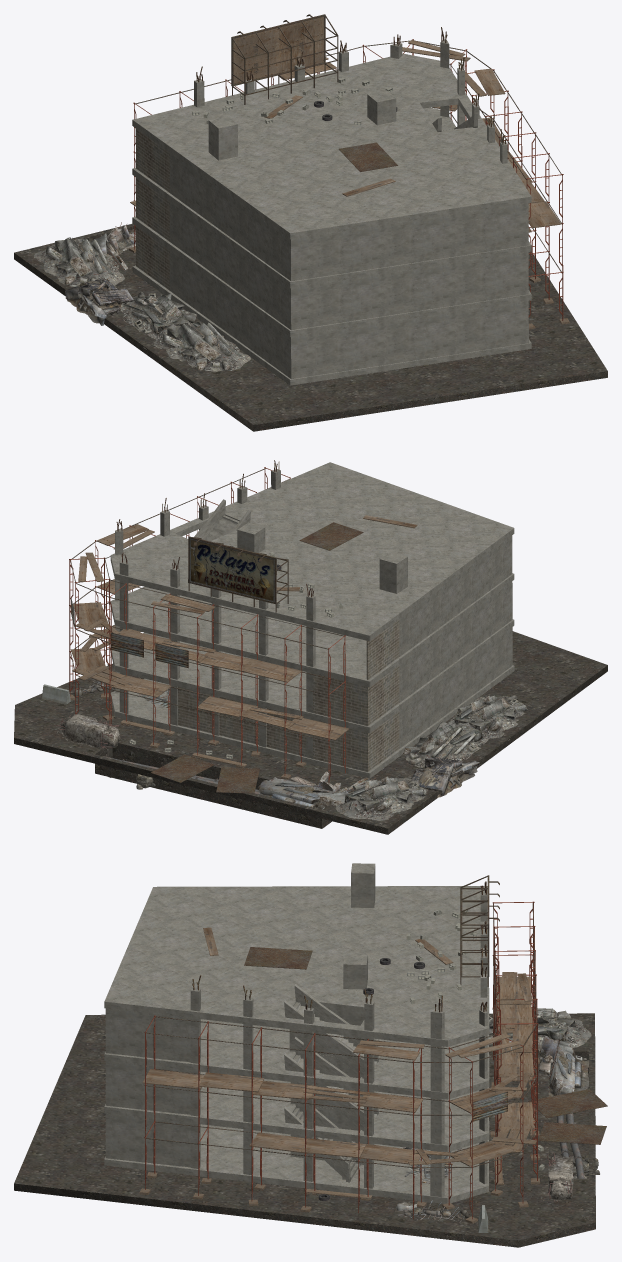
Rendered from building_construction.glb.
3 views of the same model, one above another, from view 1: azimuth 30°, elevation 25°; view 2: azimuth 150°, elevation 25°; view 3: azimuth 270°, elevation 25° (orthographic). The views are drawn at different scales.
Parts seen in each view (by area): view 1: walls_0f1b98c7.dds_0, Boole_1_Mat_0, brick_d9b6f6be.dds_0, sign_2_Mat_0, woodplanks_Mat.1_0, 4_1_0, 3_1_0, skela_92265190.dds_0, frame_3b1cf6ce.dds_0, 1_1_0, 2_2_0, steel_3b1cf6ce.dds_0 (+4 smaller); view 2: walls_0f1b98c7.dds_0, Boole_1_Mat_0, brick_d9b6f6be.dds_0, woodplanks_Mat.1_0, skela_92265190.dds_0, signback_Mat_0, Boole_1_2_Mat_0, steel_3b1cf6ce.dds_0, 3_1_0, 1_1_0, 8_8_0, bars_3b1cf6ce.dds_0 (+6 smaller); view 3: walls_0f1b98c7.dds_0, Boole_1_Mat_0, woodplanks_Mat.1_0, skela_92265190.dds_0, steel_3b1cf6ce.dds_0, bars_3b1cf6ce.dds_0, 8_8_0, stairs_2_0f1b98c7.dds_0, stairs_1_0f1b98c7.dds_0, 3_1_0, frame_3b1cf6ce.dds_0, stairs_0f1b98c7.dds_0 (+7 smaller).
Part boxes in pixels (left/top/right/bottom): walls_0f1b98c7.dds_0: left=132, top=39, right=531, bottom=385; Boole_1_Mat_0: left=14, top=223, right=607, bottom=431; brick_d9b6f6be.dds_0: left=135, top=128, right=169, bottom=290; sign_2_Mat_0: left=233, top=17, right=323, bottom=84; woodplanks_Mat.1_0: left=129, top=40, right=569, bottom=329; 4_1_0: left=143, top=322, right=251, bottom=371; 3_1_0: left=34, top=237, right=124, bottom=287; skela_92265190.dds_0: left=133, top=39, right=563, bottom=320; frame_3b1cf6ce.dds_0: left=231, top=14, right=338, bottom=104; 1_1_0: left=120, top=291, right=201, bottom=339; 2_2_0: left=65, top=279, right=133, bottom=325; steel_3b1cf6ce.dds_0: left=339, top=142, right=397, bottom=171; walls_0f1b98c7.dds_0: left=110, top=462, right=514, bottom=778; Boole_1_Mat_0: left=14, top=631, right=607, bottom=834; brick_d9b6f6be.dds_0: left=178, top=619, right=399, bottom=772; woodplanks_Mat.1_0: left=70, top=515, right=417, bottom=779; skela_92265190.dds_0: left=69, top=467, right=345, bottom=782; signback_Mat_0: left=189, top=539, right=274, bottom=602; Boole_1_2_Mat_0: left=95, top=746, right=331, bottom=828; steel_3b1cf6ce.dds_0: left=151, top=522, right=363, bottom=793; 3_1_0: left=335, top=776, right=427, bottom=820; 1_1_0: left=403, top=720, right=488, bottom=767; 8_8_0: left=257, top=771, right=377, bottom=809; bars_3b1cf6ce.dds_0: left=70, top=468, right=343, bottom=740; walls_0f1b98c7.dds_0: left=104, top=863, right=489, bottom=1203; Boole_1_Mat_0: left=14, top=1013, right=595, bottom=1247; woodplanks_Mat.1_0: left=139, top=927, right=540, bottom=1223; skela_92265190.dds_0: left=144, top=901, right=538, bottom=1219; steel_3b1cf6ce.dds_0: left=244, top=947, right=607, bottom=1144; bars_3b1cf6ce.dds_0: left=146, top=903, right=537, bottom=1168; 8_8_0: left=509, top=1035, right=588, bottom=1096; stairs_2_0f1b98c7.dds_0: left=284, top=984, right=378, bottom=1078; stairs_1_0f1b98c7.dds_0: left=284, top=1037, right=378, bottom=1131; 3_1_0: left=489, top=1008, right=591, bottom=1047; frame_3b1cf6ce.dds_0: left=460, top=875, right=499, bottom=986; stairs_0f1b98c7.dds_0: left=284, top=1098, right=360, bottom=1182.
Size of the model in its own units: 29.6 by 15.1 by 32.08.
19 materials, 19 textured.
